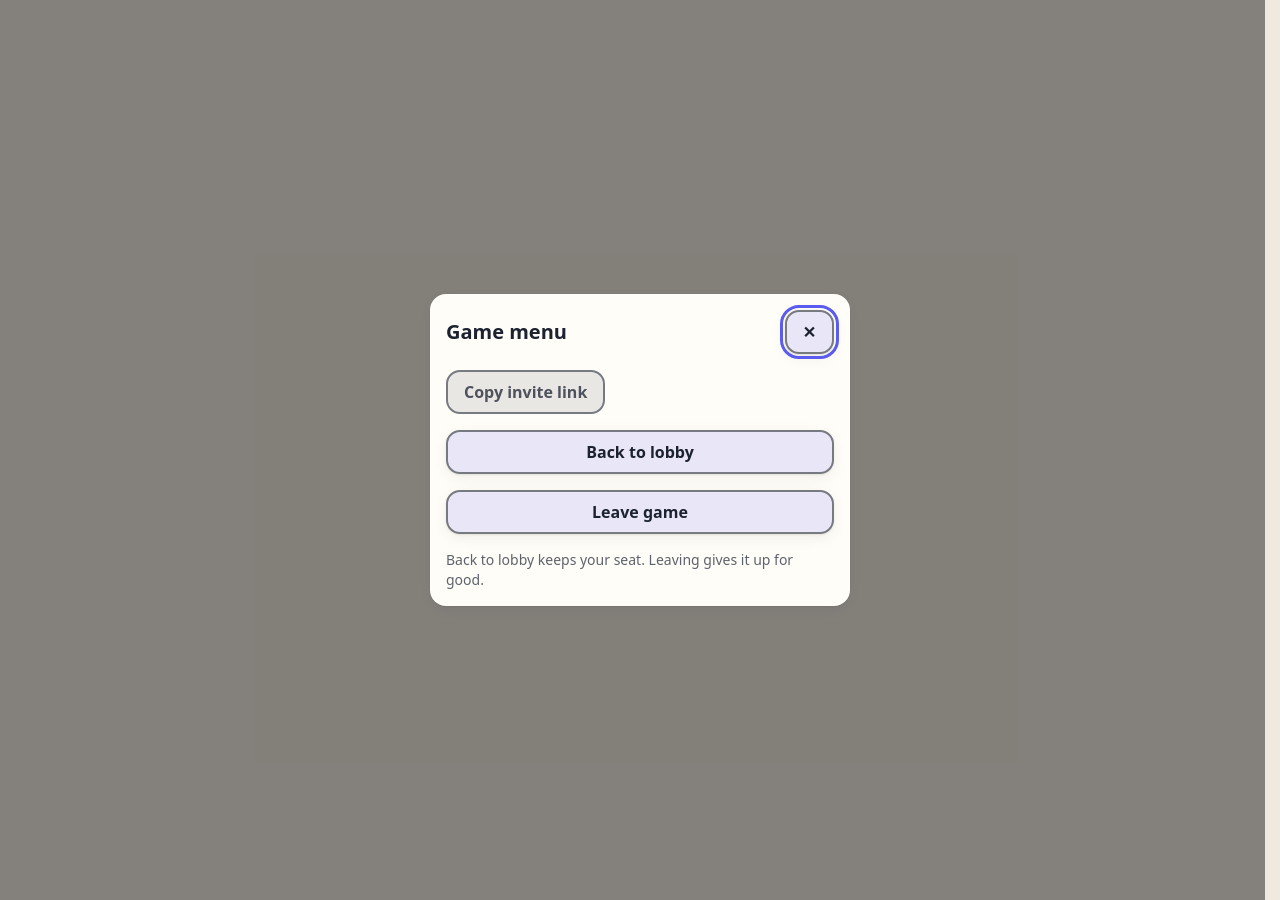
Test case: GameMenu leave › confirms, calls leave, forgets the seat and the password, goes home
Later steps or results of the test are not shown.
What coordinates should you click on to do the following:
click the button "Leave game"
I would click on:
 (640, 512)
Its box is top-left (446, 490), bottom-right (834, 534).
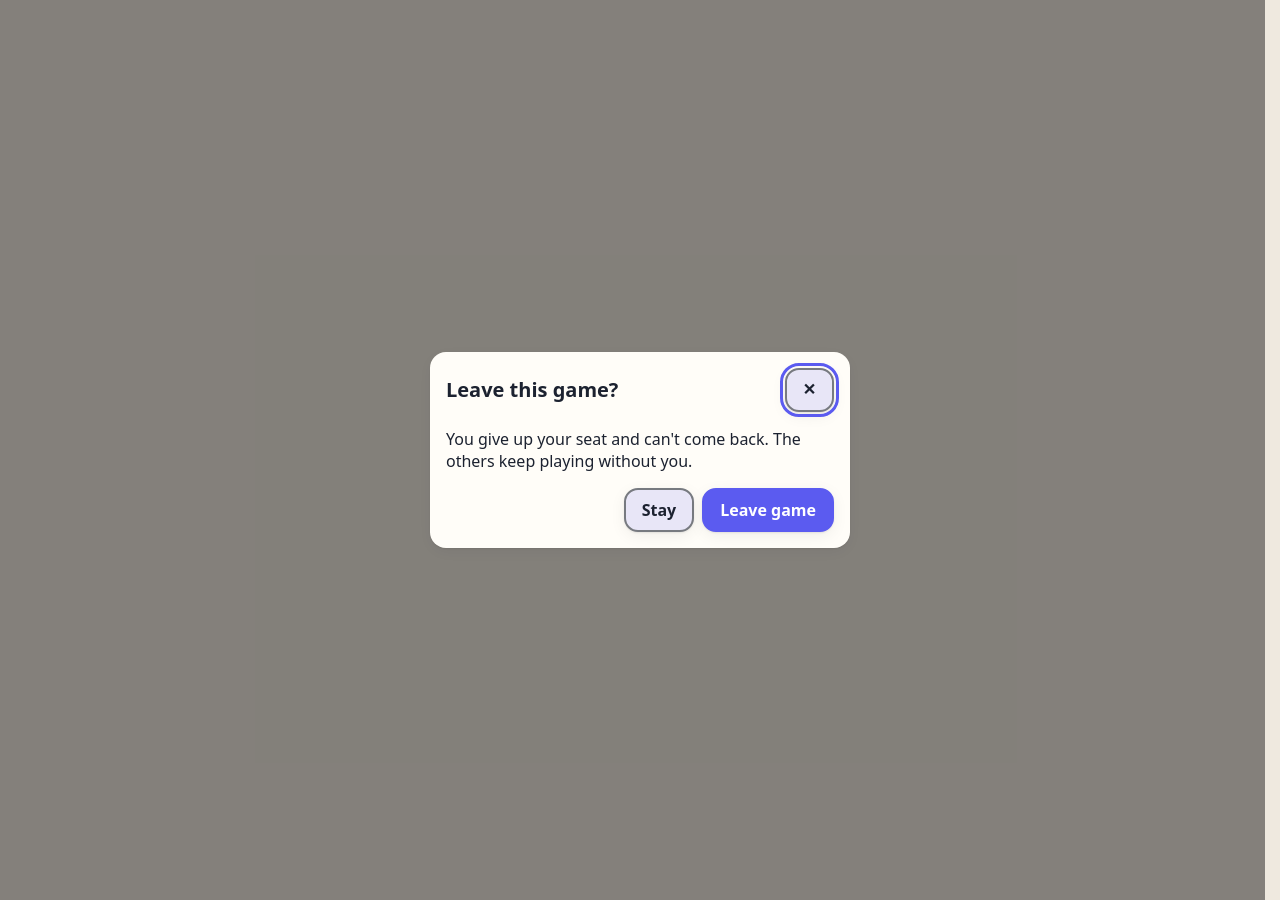
Expected: the heading "Leave this game?" is shown, top-left (446, 378), bottom-right (618, 402)
